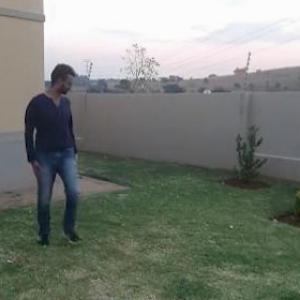follow: (21, 60, 84, 248)
